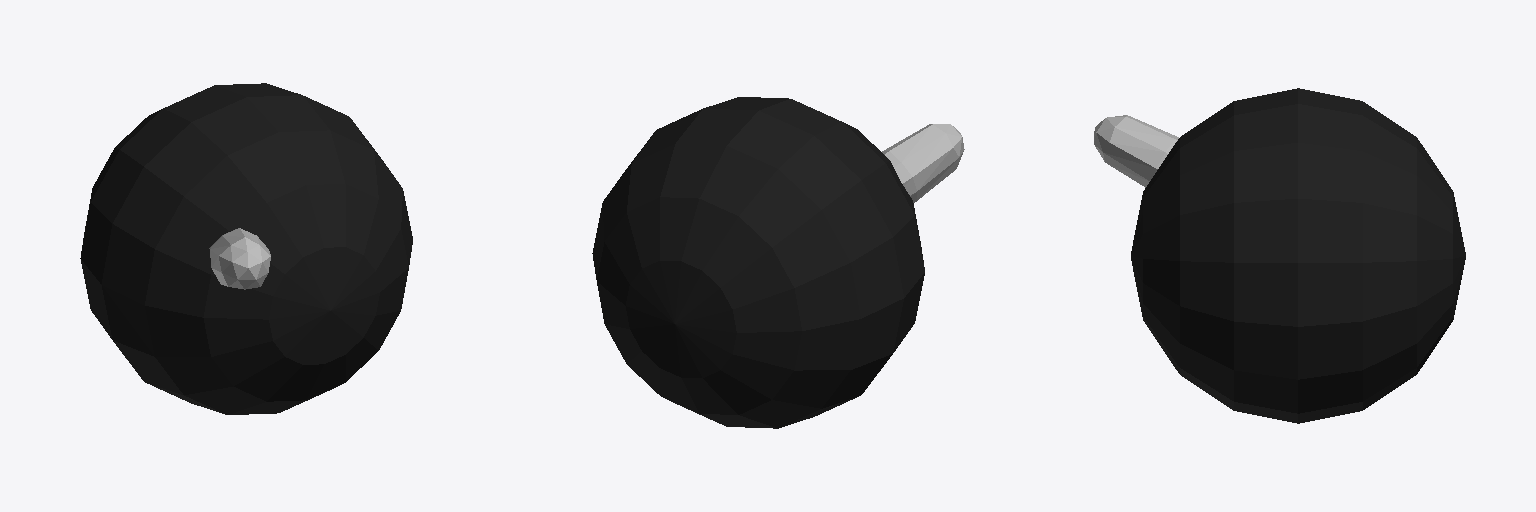
Rendered from bomb.obj.
3 views of the same model, side by side, from view 1: azimuth 30°, elevation 25°; view 2: azimuth 150°, elevation 25°; view 3: azimuth 270°, elevation 25° (orthographic).
Parts seen in each view (by area): view 1: Sphere.001_~tmp-mesh, Cylinder_~tmp-mesh; view 2: Sphere.001_~tmp-mesh, Cylinder_~tmp-mesh; view 3: Sphere.001_~tmp-mesh, Cylinder_~tmp-mesh.
Part boxes in pixels (x1,y1,x2,y2): Sphere.001_~tmp-mesh: (80, 83, 412, 414); Cylinder_~tmp-mesh: (209, 228, 270, 289); Sphere.001_~tmp-mesh: (592, 97, 924, 428); Cylinder_~tmp-mesh: (882, 124, 964, 202); Sphere.001_~tmp-mesh: (1131, 88, 1465, 423); Cylinder_~tmp-mesh: (1094, 115, 1178, 187).
Size of the model in its own units: 1.02 by 1.02 by 1.13.